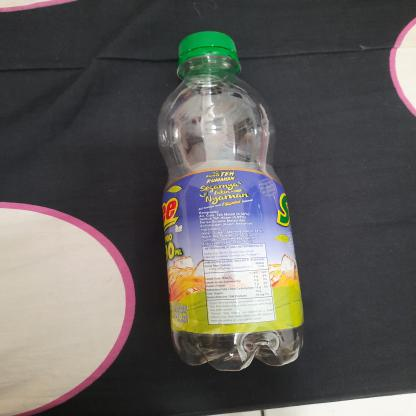plastic: (148, 25, 310, 375)
